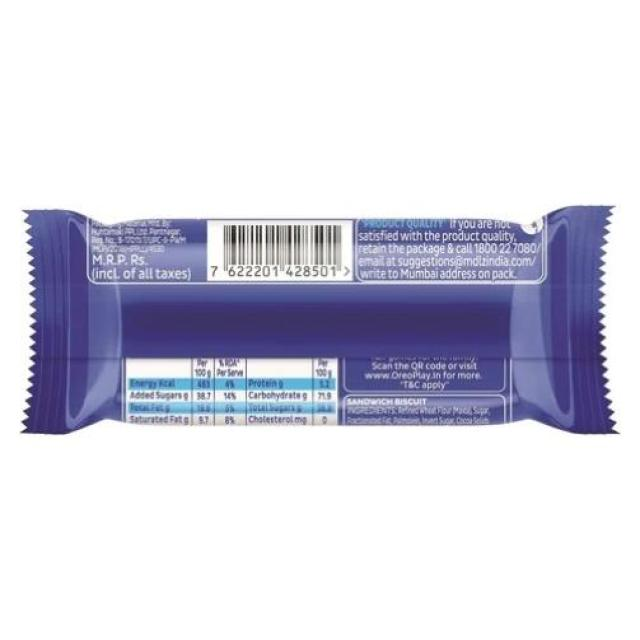oreo: (21, 211, 624, 430)
